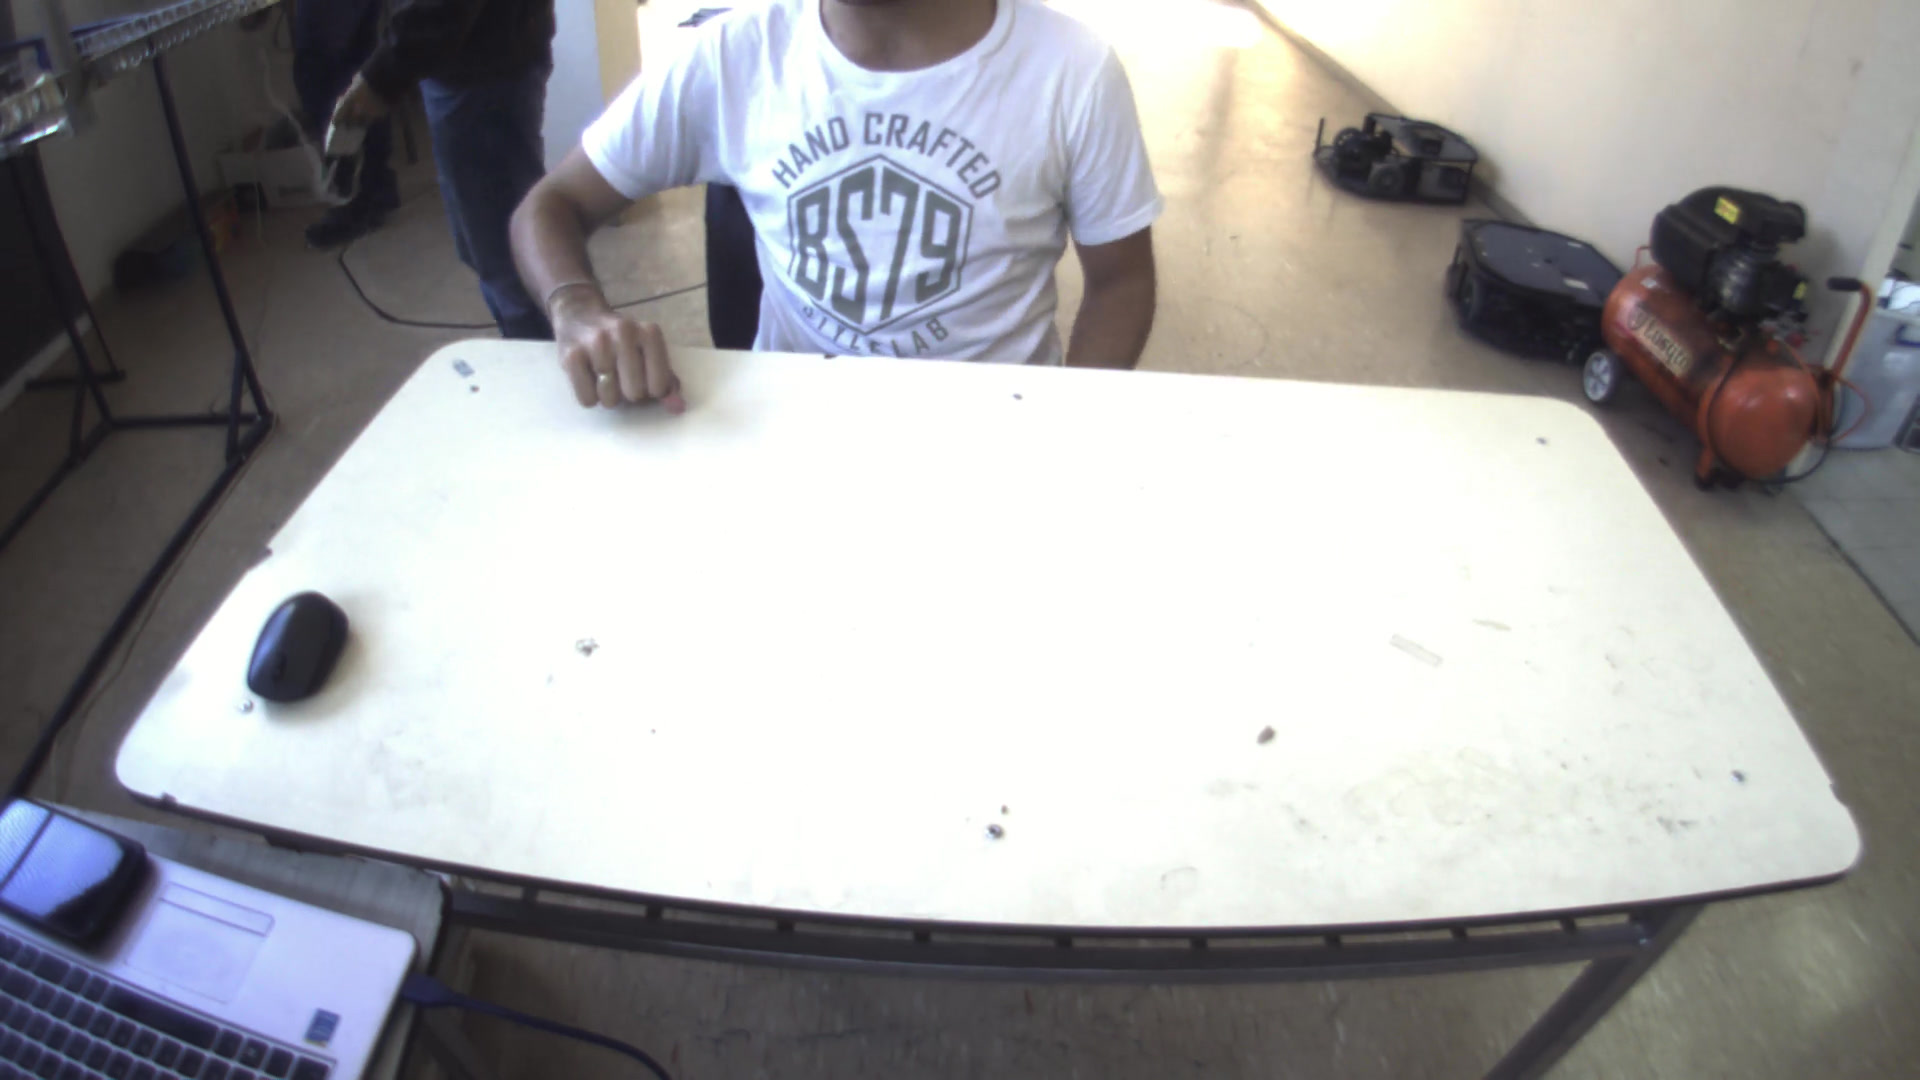hand: (547, 313, 690, 407)
